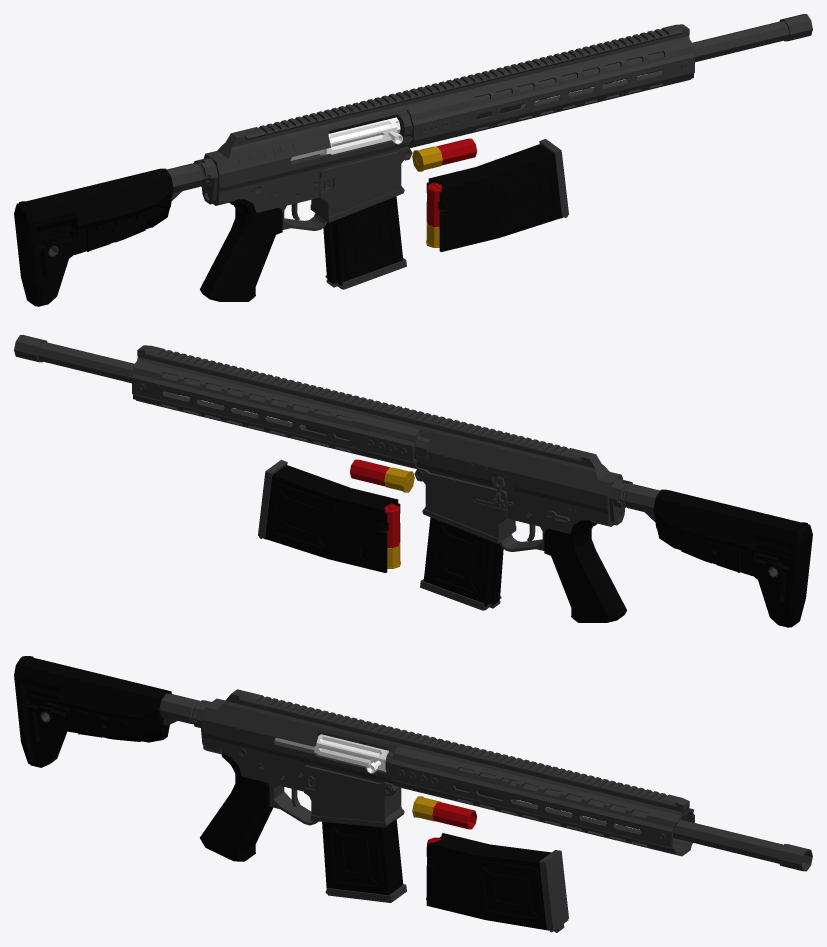
Rendered from gen12.glb.
3 views of the same model, one above another, from view 1: azimuth 30°, elevation 25°; view 2: azimuth 150°, elevation 25°; view 3: azimuth 330°, elevation 25° (orthographic).
Parts seen in each view (by area): view 1: gen-12_5, gen12 stock_10, 1276 gen12 mag 5rnd _2, 1276 gen12 mag empty 5rnd _1, gen12 bolt_4, Object_4, Object_5, gen12 muzzle_3; view 2: gen-12_5, gen12 stock_10, 1276 gen12 mag 5rnd _2, 1276 gen12 mag empty 5rnd _1, Object_4, Object_5, gen12 muzzle_3; view 3: gen-12_5, gen12 stock_10, 1276 gen12 mag 5rnd _2, 1276 gen12 mag empty 5rnd _1, gen12 bolt_4, Object_4, gen12 muzzle_3.
Boxes of the visible parts, bbox=[...] form: gen-12_5: bbox=[167, 21, 789, 301]; gen12 stock_10: bbox=[14, 168, 173, 306]; 1276 gen12 mag 5rnd _2: bbox=[426, 139, 568, 251]; 1276 gen12 mag empty 5rnd _1: bbox=[323, 196, 406, 289]; gen12 bolt_4: bbox=[290, 117, 403, 160]; Object_4: bbox=[436, 138, 476, 165]; Object_5: bbox=[412, 146, 442, 171]; gen12 muzzle_3: bbox=[779, 14, 812, 41]; gen-12_5: bbox=[37, 342, 659, 622]; gen12 stock_10: bbox=[653, 489, 812, 627]; 1276 gen12 mag 5rnd _2: bbox=[258, 460, 400, 572]; 1276 gen12 mag empty 5rnd _1: bbox=[420, 517, 503, 610]; Object_4: bbox=[350, 459, 390, 486]; Object_5: bbox=[384, 467, 414, 492]; gen12 muzzle_3: bbox=[14, 335, 47, 362]; gen-12_5: bbox=[159, 689, 783, 863]; gen12 stock_10: bbox=[14, 656, 171, 767]; 1276 gen12 mag 5rnd _2: bbox=[426, 833, 568, 932]; 1276 gen12 mag empty 5rnd _1: bbox=[322, 820, 406, 902]; gen12 bolt_4: bbox=[275, 734, 388, 773]; Object_4: bbox=[432, 802, 476, 829]; gen12 muzzle_3: bbox=[778, 844, 812, 871].
Size of the model in its own units: 10.95 by 2.31 by 0.632.
